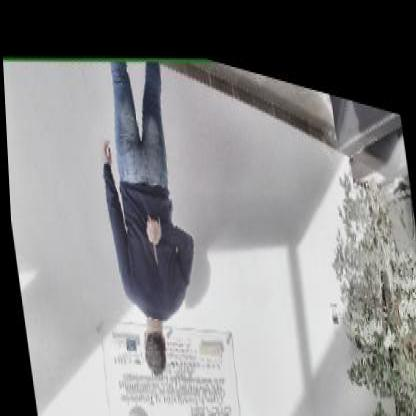knife: (141, 198, 158, 258)
